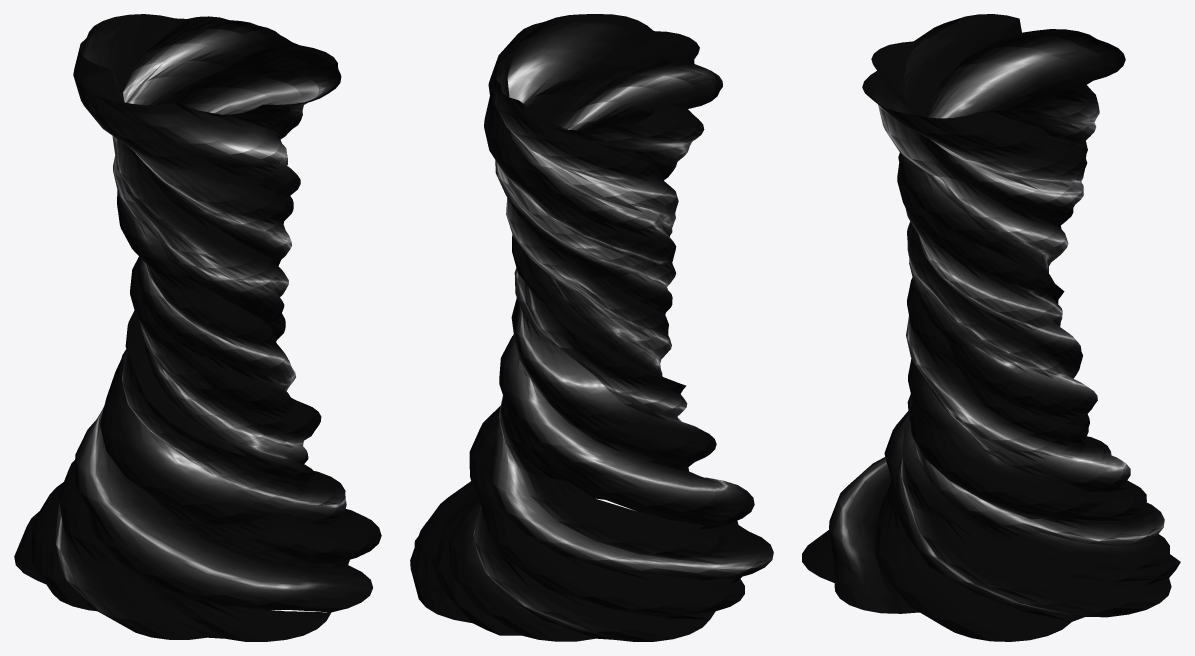
3 renders of one model, left to right at view 1: azimuth 30°, elevation 25°; view 2: azimuth 150°, elevation 25°; view 3: azimuth 270°, elevation 25°, orthographic. The views are drawn at different scales.
Bounding box in the file's own units: 1.45 × 2.2 × 1.54.
1 material, 1 textured.
